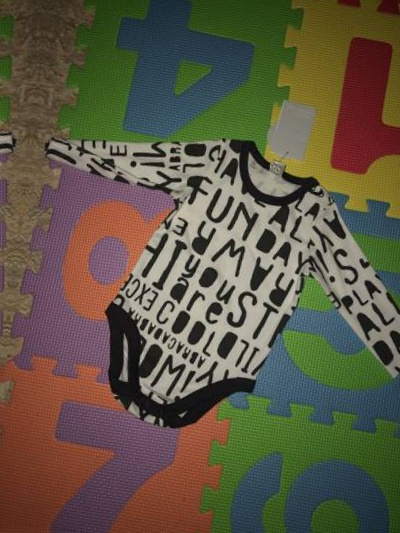Body: (1, 80, 400, 461), (0, 26, 34, 408)
